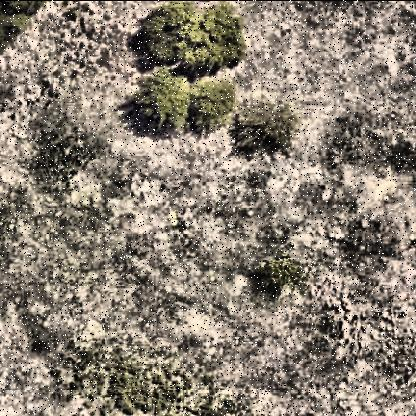tree-top: (139, 5, 243, 71), (130, 75, 237, 135), (232, 95, 298, 163), (258, 251, 300, 299), (1, 1, 43, 49)
